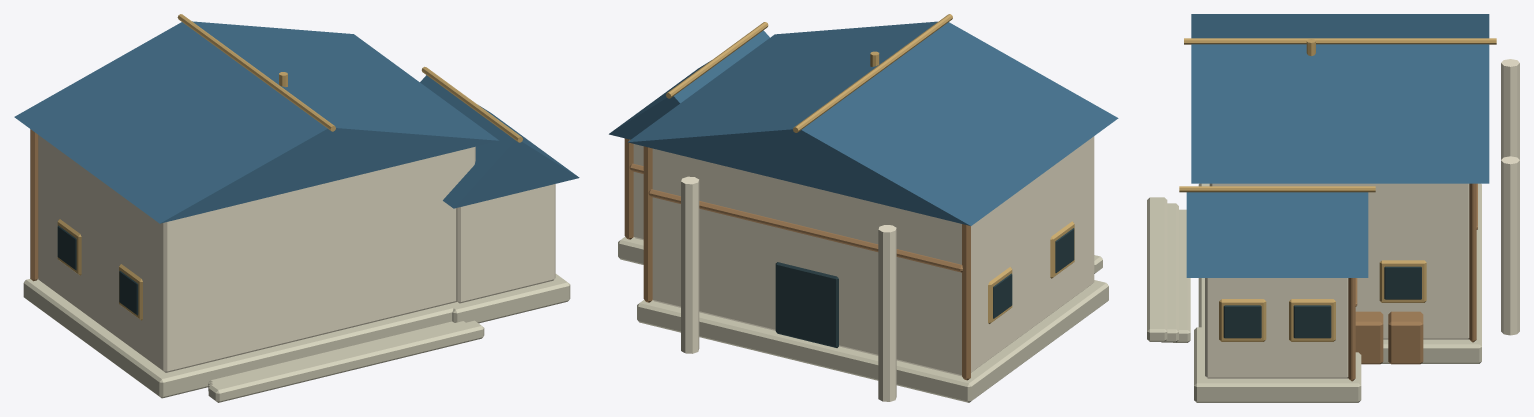
File: level_20.glb
3 views of the same model, side by side, from view 1: azimuth 30°, elevation 25°; view 2: azimuth 150°, elevation 25°; view 3: azimuth 270°, elevation 25° (orthographic). The views are drawn at different scales.
Parts seen in each view (by area): view 1: warehouse — level 20; view 2: warehouse — level 20; view 3: warehouse — level 20.
Boxes of the visible parts, x1,y1,x2,y2 form: warehouse — level 20: (14, 14, 579, 402); warehouse — level 20: (609, 14, 1118, 402); warehouse — level 20: (1147, 14, 1519, 402).
Size of the model in its own units: 6.78 by 3.77 by 5.13.
